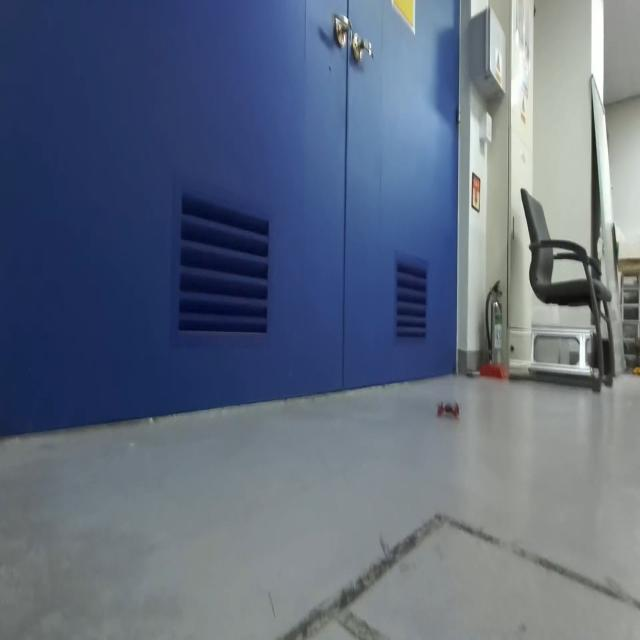crazyflie: (432, 392, 462, 424)
